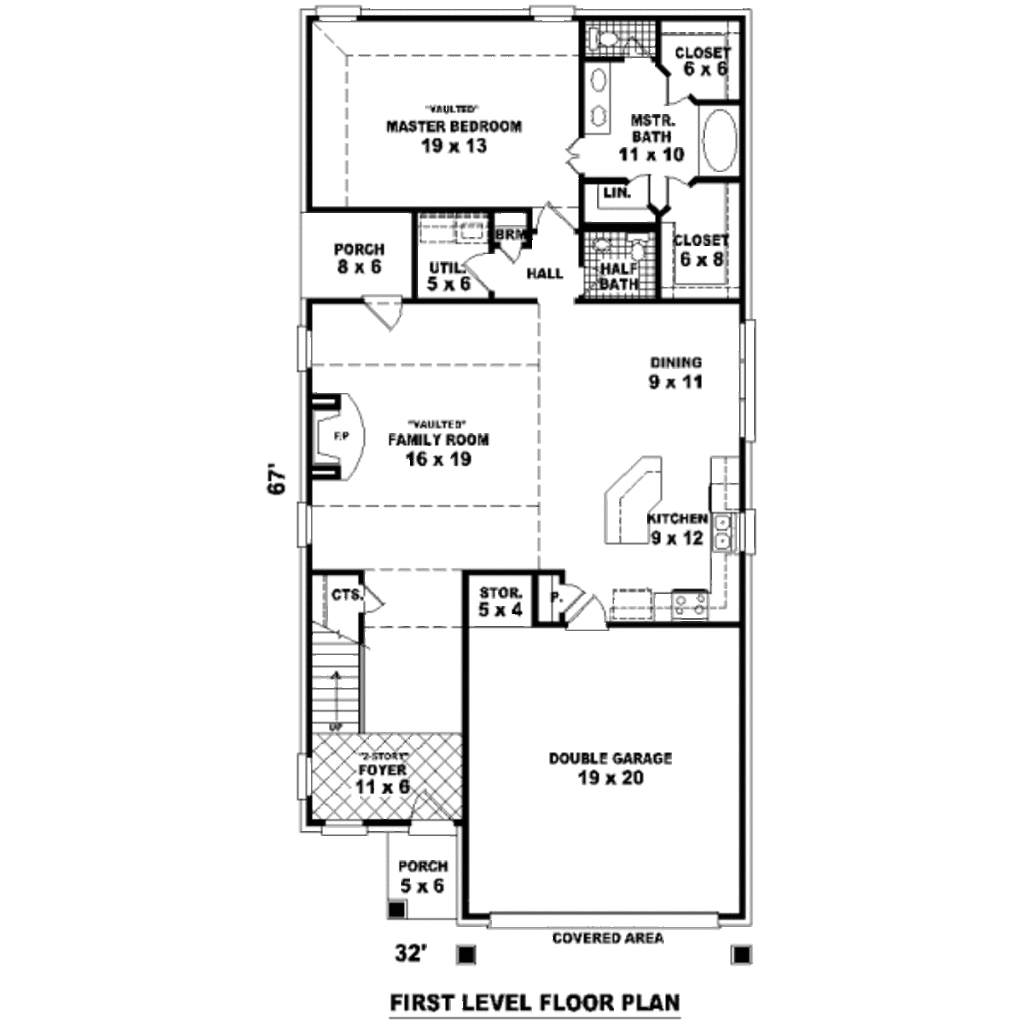door: (456, 243, 501, 296), (355, 292, 411, 332), (530, 196, 579, 233), (657, 68, 694, 117), (566, 595, 611, 632), (494, 228, 529, 267), (559, 131, 587, 176), (663, 171, 691, 214), (622, 171, 654, 205), (556, 581, 586, 617), (358, 582, 384, 617)
large_sink: (571, 16, 621, 52)
small_sink: (576, 59, 612, 139)
stairs: (310, 572, 372, 740)
tub: (701, 107, 746, 180)
twin_sink: (702, 512, 739, 555)
window: (735, 315, 761, 451), (319, 814, 371, 842), (293, 748, 319, 800), (411, 814, 463, 837), (291, 325, 311, 377)
